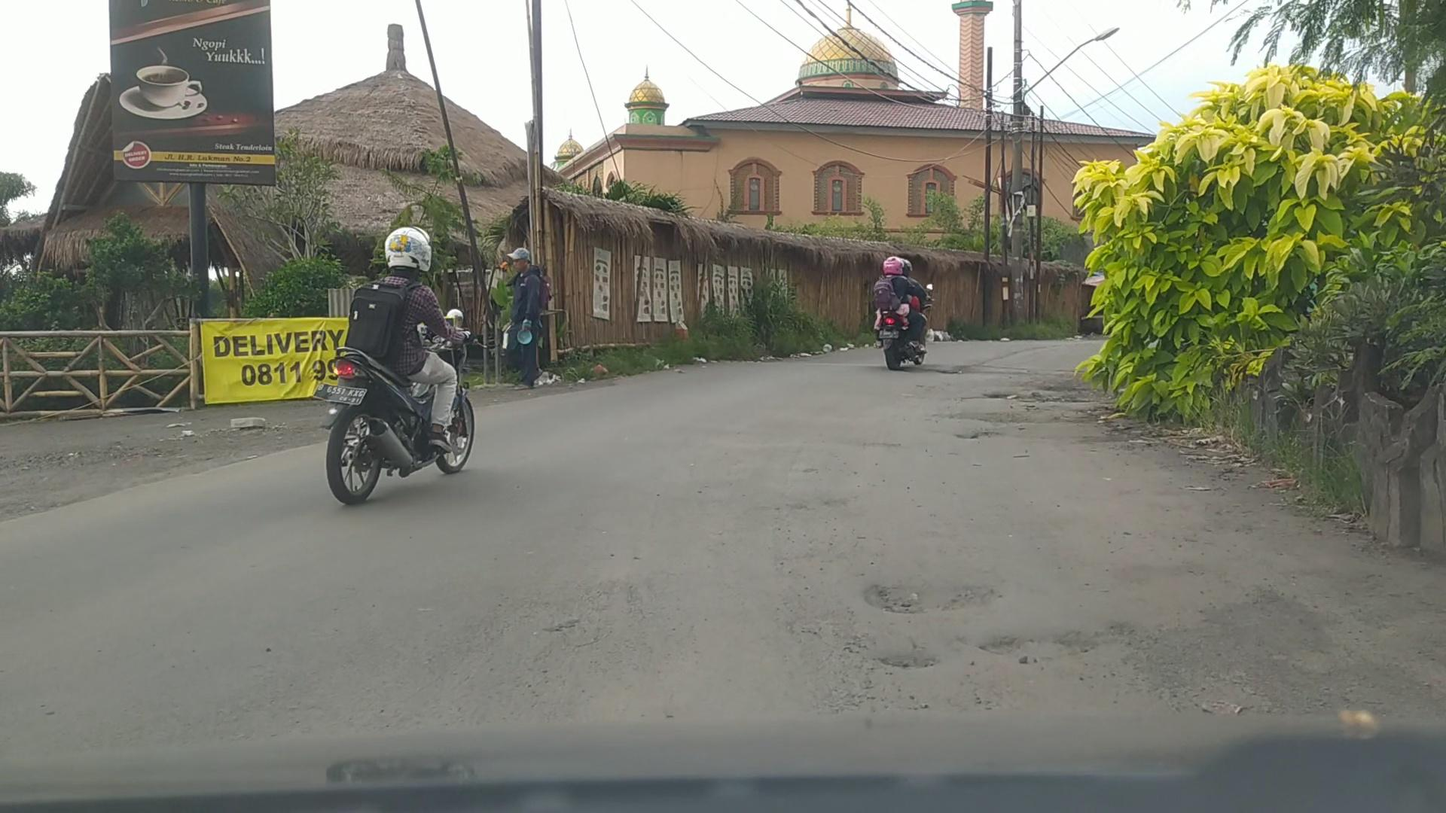pothole: (862, 580, 1001, 616), (1051, 629, 1103, 657), (877, 648, 942, 670), (974, 634, 1022, 657), (1025, 390, 1098, 403), (954, 429, 1000, 439), (928, 368, 960, 375), (983, 393, 1018, 399)
